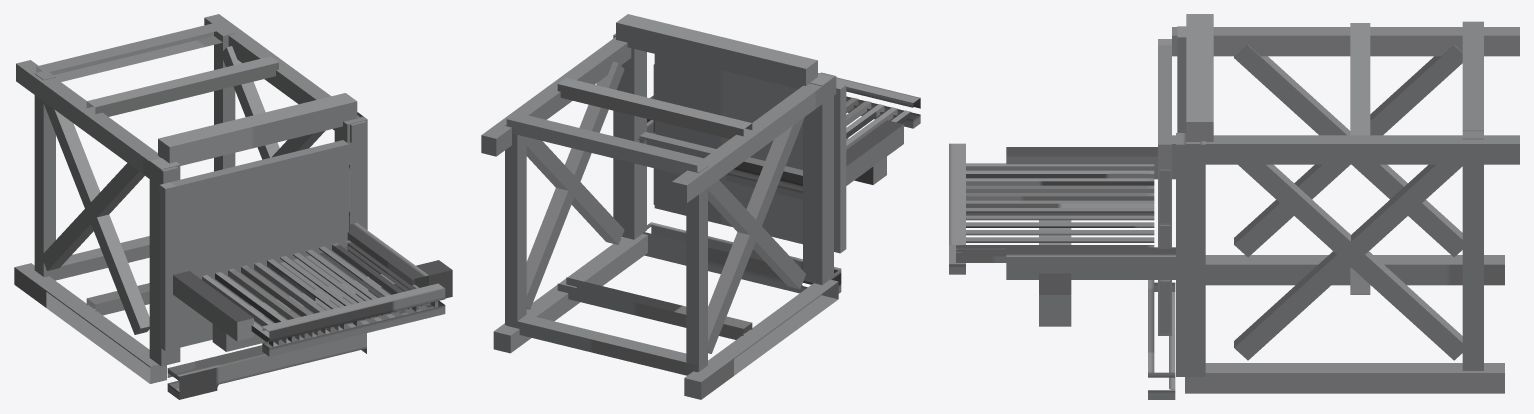
3 renders of one model, left to right at view 1: azimuth 30°, elevation 25°; view 2: azimuth 150°, elevation 25°; view 3: azimuth 270°, elevation 25°, orthographic. The views are drawn at different scales.
Bounding box in the file's own units: 1.07 × 1.02 × 1.87.
